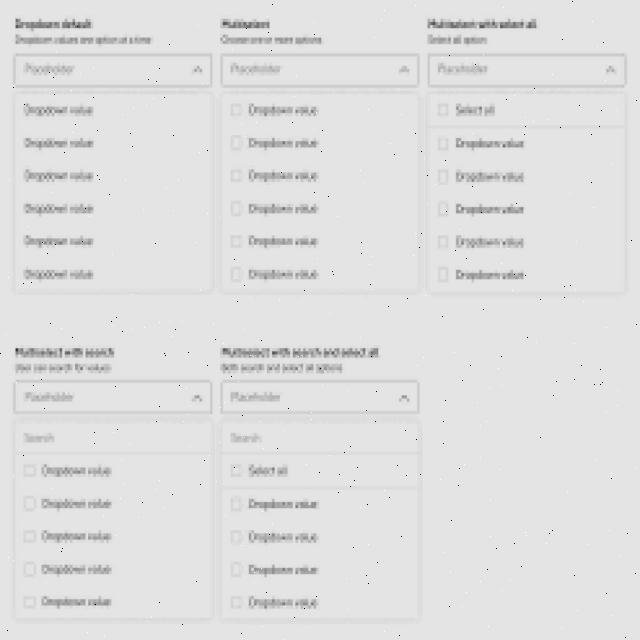checkbox: (229, 560, 243, 578), (23, 496, 37, 512), (23, 528, 37, 544), (230, 528, 242, 546), (230, 266, 243, 282), (23, 562, 36, 578), (437, 266, 449, 283), (23, 464, 37, 478), (23, 594, 36, 609), (230, 202, 242, 218), (437, 168, 449, 184), (231, 496, 243, 512), (437, 138, 450, 152), (230, 464, 243, 478), (230, 134, 242, 149), (230, 595, 242, 610), (230, 234, 242, 248), (437, 103, 449, 117), (437, 234, 449, 248), (438, 201, 448, 217), (232, 103, 243, 116), (231, 169, 241, 183)
dropdownMenu: (12, 51, 212, 298), (13, 378, 213, 623), (220, 53, 420, 297), (429, 54, 626, 299), (221, 381, 418, 624)
label: (218, 343, 384, 376), (10, 16, 156, 47), (424, 16, 541, 48), (217, 15, 326, 48), (11, 342, 120, 374)
menuItem: (432, 259, 528, 291), (226, 588, 323, 616), (226, 97, 320, 124), (227, 556, 322, 582), (17, 557, 115, 582), (17, 461, 119, 484), (226, 262, 321, 286), (20, 524, 115, 548), (432, 228, 526, 252), (226, 196, 319, 220), (18, 589, 115, 612), (20, 492, 116, 515), (226, 230, 320, 253), (434, 165, 527, 188), (225, 524, 322, 546), (228, 163, 320, 186), (436, 197, 528, 220), (224, 492, 324, 513), (226, 132, 321, 154), (434, 132, 527, 154), (432, 98, 502, 124), (20, 164, 95, 187), (20, 229, 98, 251), (18, 98, 96, 119), (224, 459, 294, 482), (21, 265, 99, 285), (20, 198, 98, 218), (22, 132, 97, 152), (18, 427, 71, 449), (228, 427, 272, 449)
